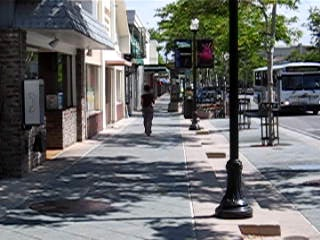person: (141, 85, 158, 138), (140, 85, 157, 138), (142, 85, 159, 138), (141, 84, 158, 137), (141, 86, 158, 139)
target_negative: (211, 9, 302, 221), (37, 145, 210, 213), (103, 203, 201, 228), (299, 94, 315, 221), (40, 216, 135, 232), (99, 100, 235, 104)
